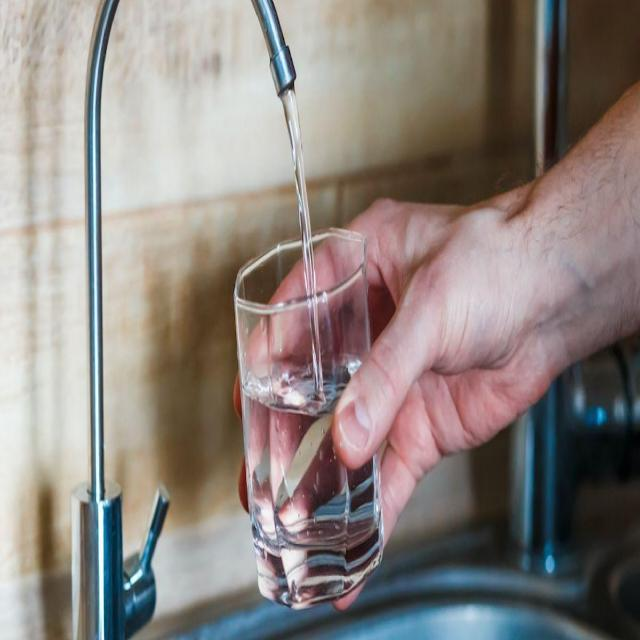glass-normal: (232, 226, 385, 608)
